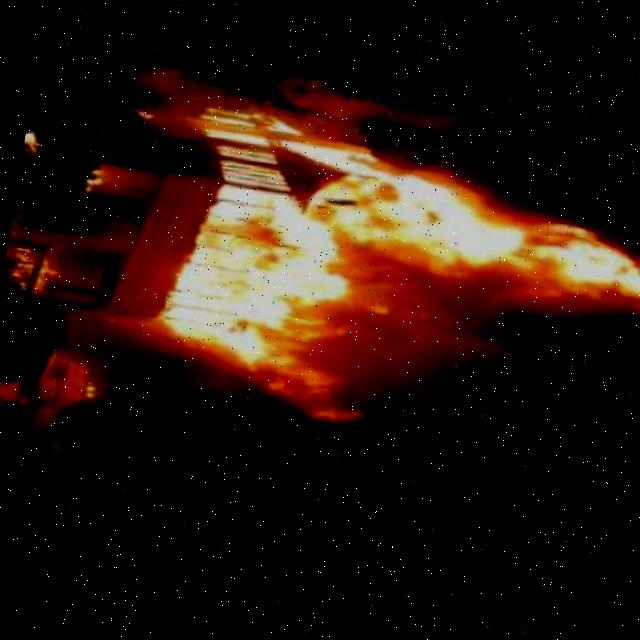fire: (153, 84, 640, 477), (2, 236, 66, 295), (70, 159, 134, 204), (67, 368, 114, 405), (23, 121, 53, 158)
